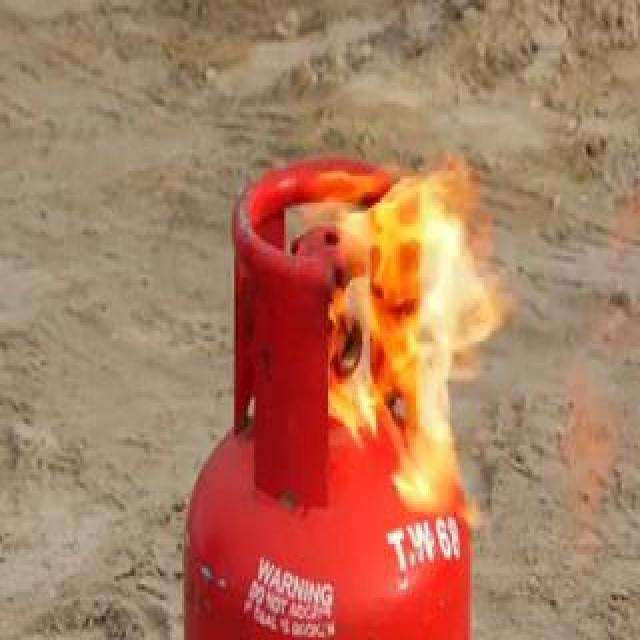Fire: (246, 136, 598, 459)
